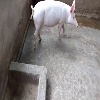heo: (28, 1, 83, 47)
